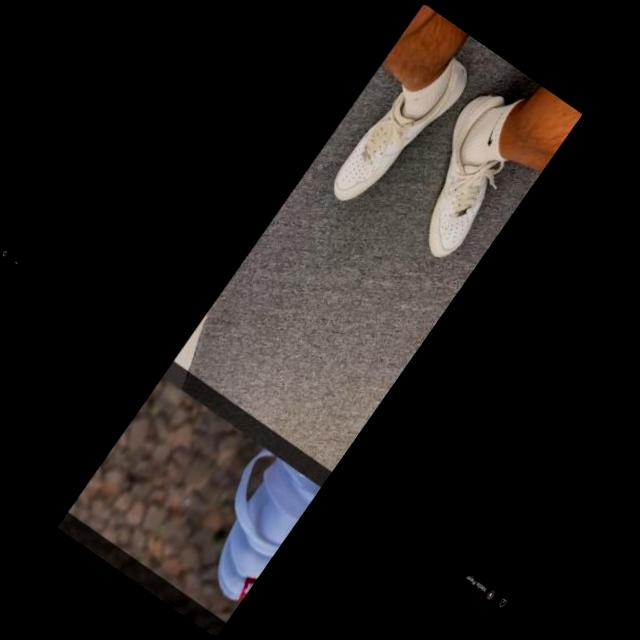nike_original_airforce: (382, 75, 548, 270), (324, 36, 477, 227)
